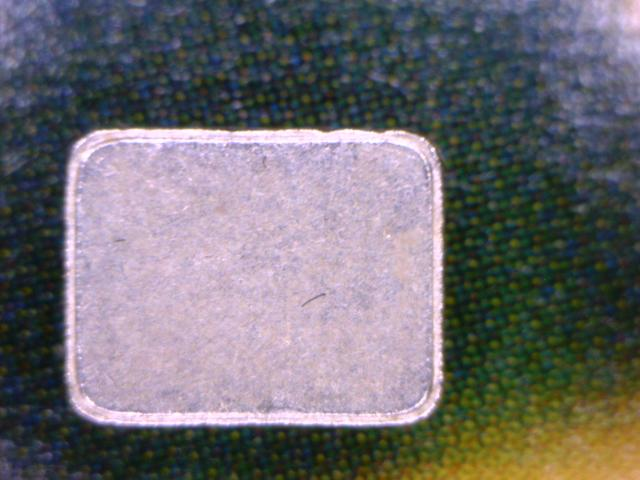nok: (60, 122, 464, 438)
